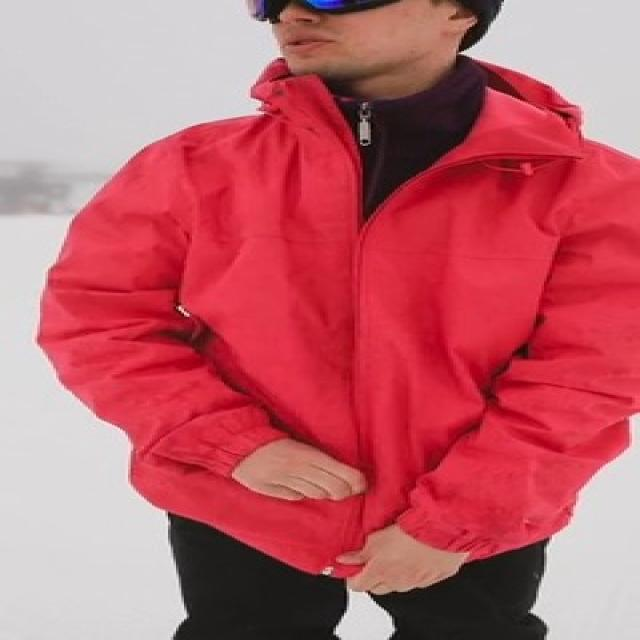Jacket_Wearer: (44, 94, 640, 552)
Person: (39, 4, 640, 640)
